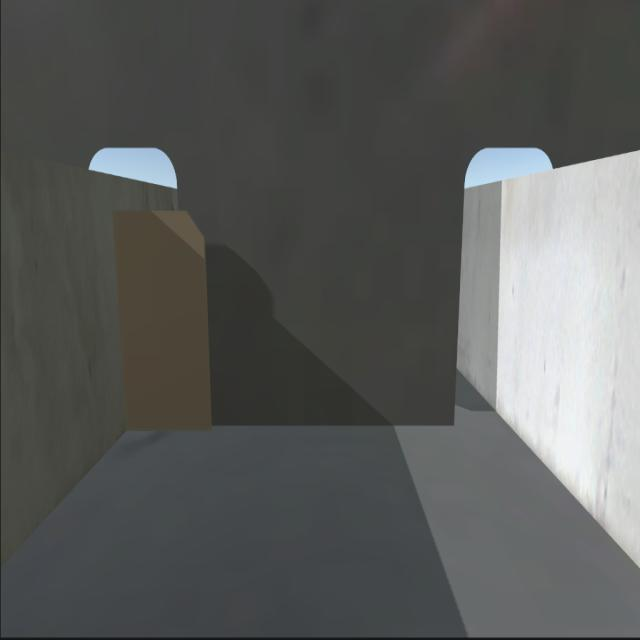fillet_yong_jeop_jang: (125, 421, 454, 428)
longi_yong_jeop_jang: (112, 213, 128, 427)
plate_CP03: (120, 208, 214, 422)
